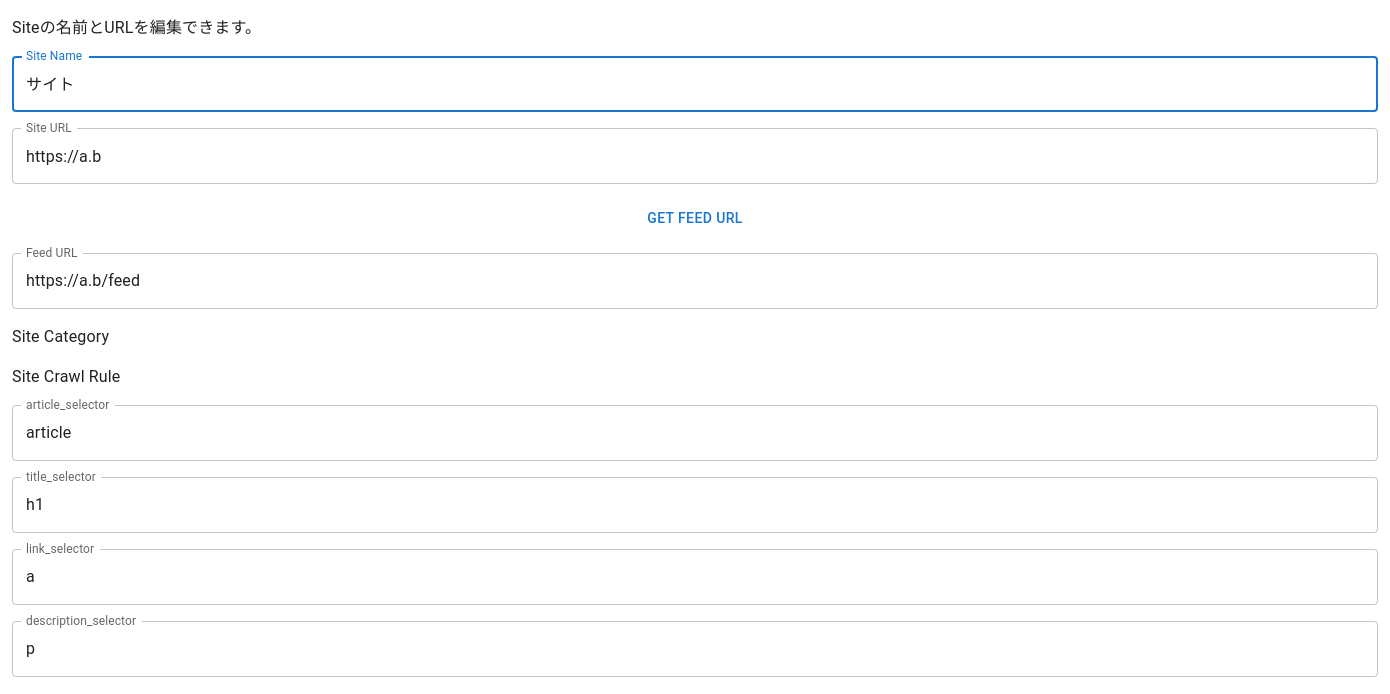
Feed URL › feed urlを取得する
Click the button "Get Feed URL": point(695, 218) [12,200,1378,236]
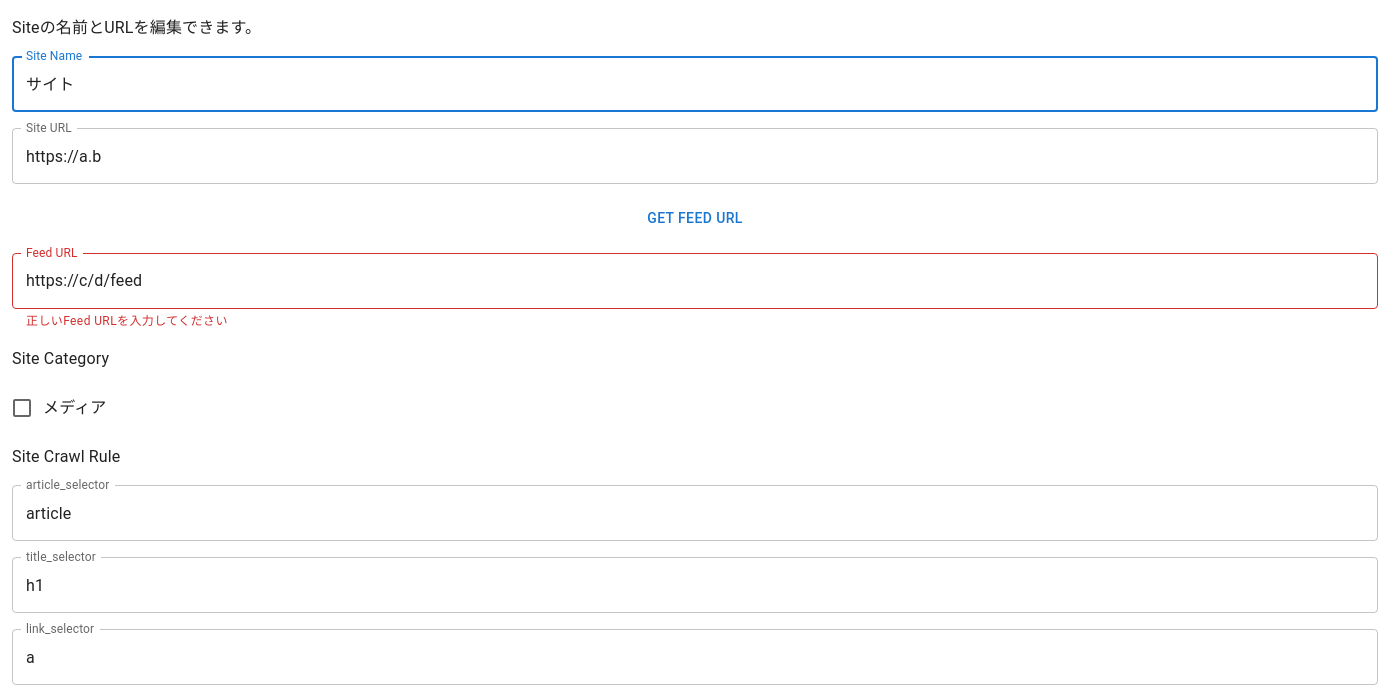
Check: the field labelled "Feed URL" holds "https://c/d/feed", box [12,252,1378,308]
